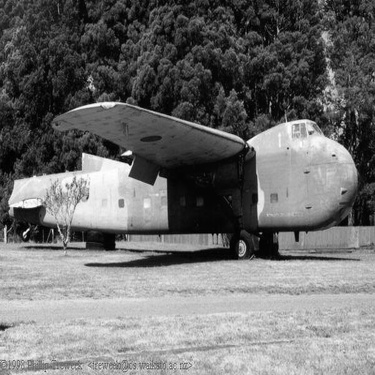airplane: (1, 75, 368, 297)
